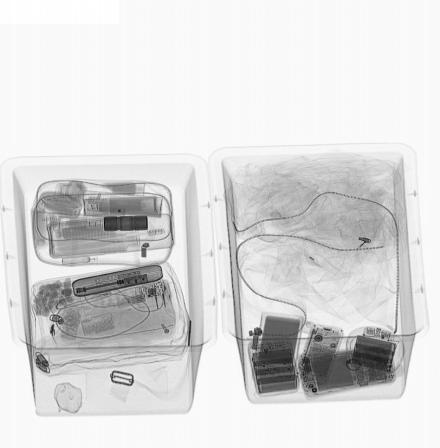Powerbank: (246, 338, 300, 396), (350, 334, 399, 375)
